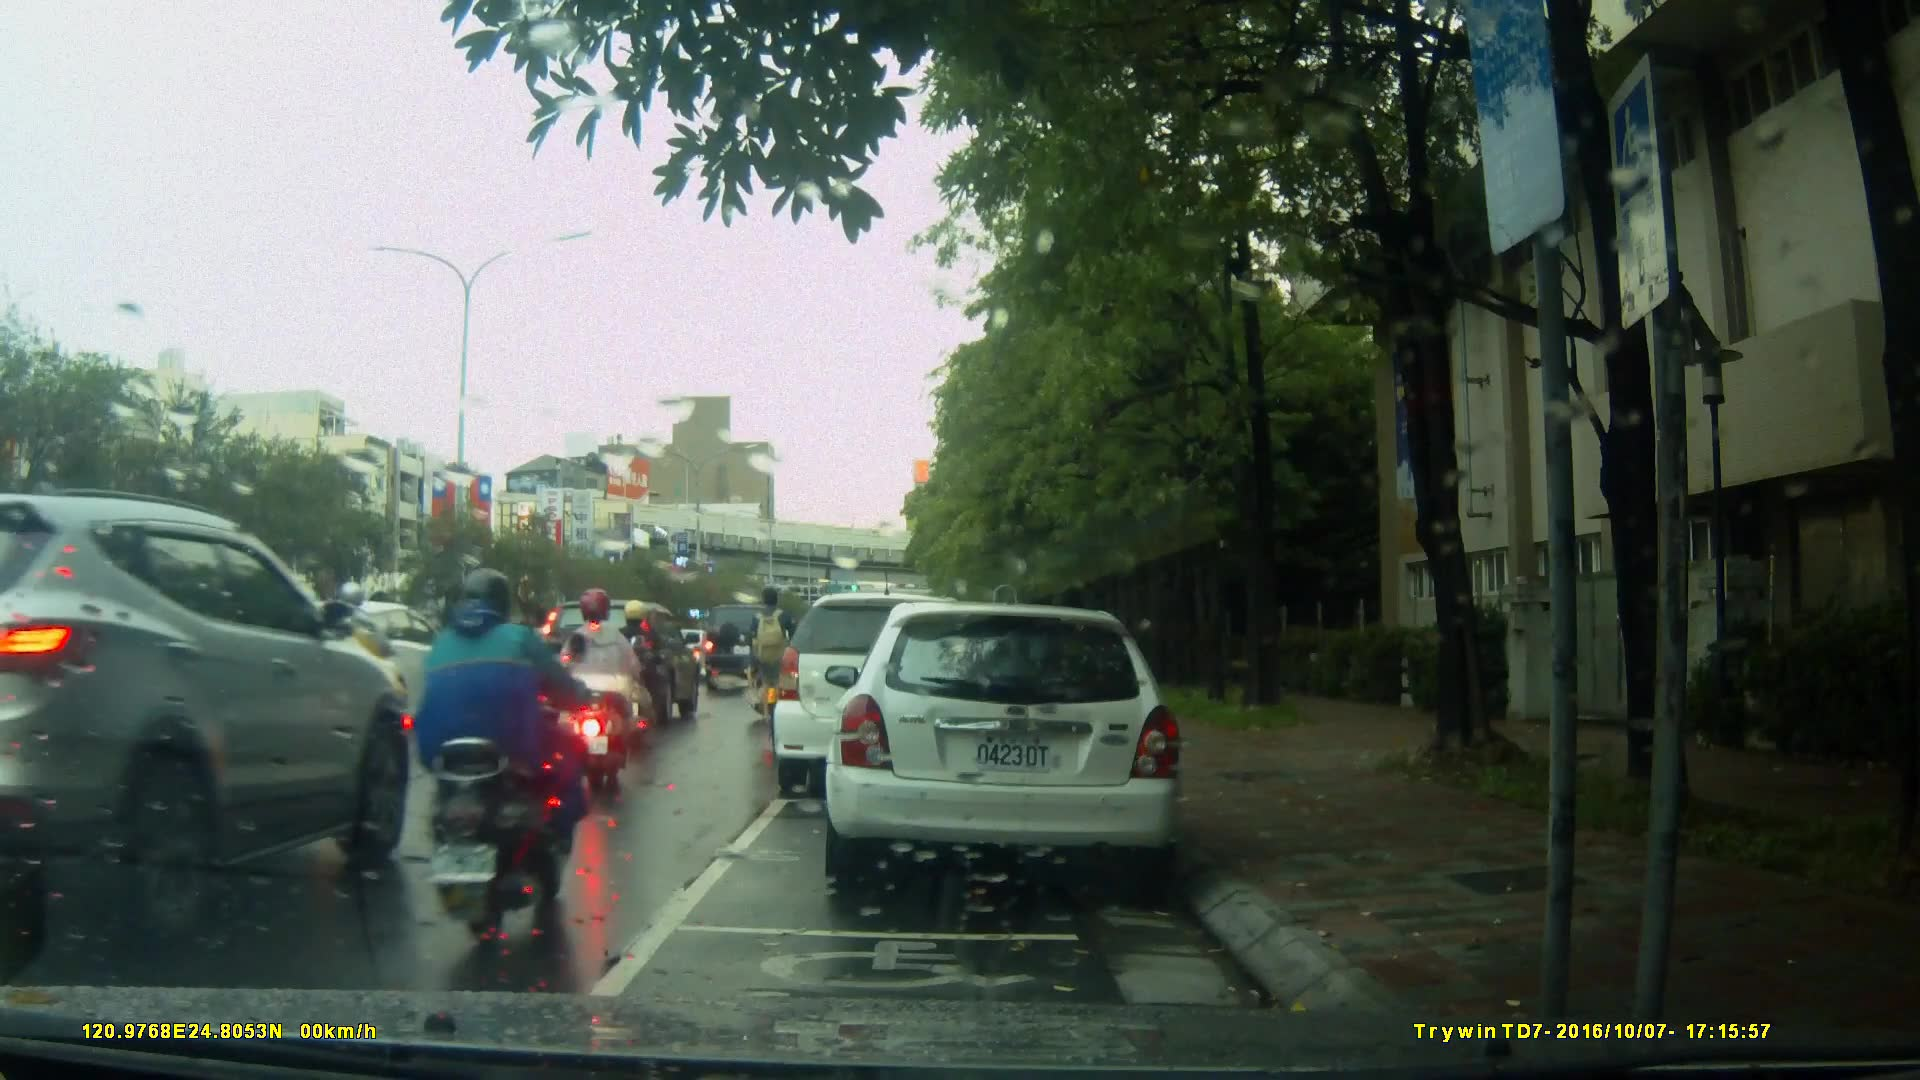rider: (412, 564, 575, 953), (305, 578, 397, 780), (565, 588, 645, 801), (612, 602, 677, 750), (744, 586, 798, 751)
vehicle: (1, 485, 413, 948), (822, 604, 1188, 883), (774, 595, 995, 802), (535, 596, 706, 730)
